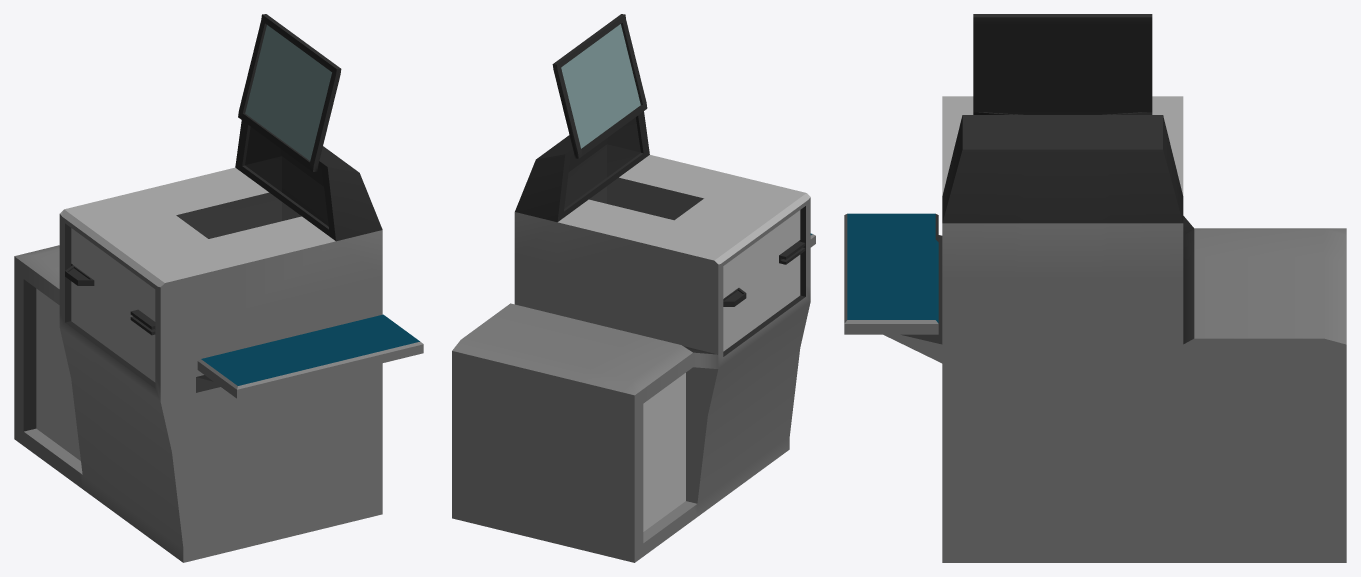
File: CheckoutSelf.fbx
3 renders of one model, left to right at view 1: azimuth 30°, elevation 25°; view 2: azimuth 150°, elevation 25°; view 3: azimuth 270°, elevation 25°, orthographic. The views are drawn at different scales.
Parts seen in each view (by area): view 1: pCube49; view 2: pCube49; view 3: pCube49.
Boxes of the visible parts, bbox=[...] form: pCube49: bbox=[14, 14, 423, 562]; pCube49: bbox=[452, 14, 815, 562]; pCube49: bbox=[844, 14, 1346, 562].
Bounding box in the file's own units: 4 × 7.42 × 6.37.
Materials: 4 (1 with a texture image).
